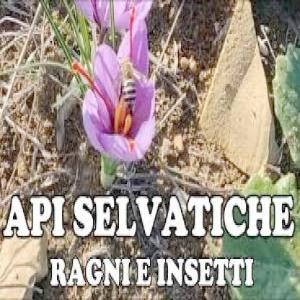Saffron: (82, 48, 156, 162)
